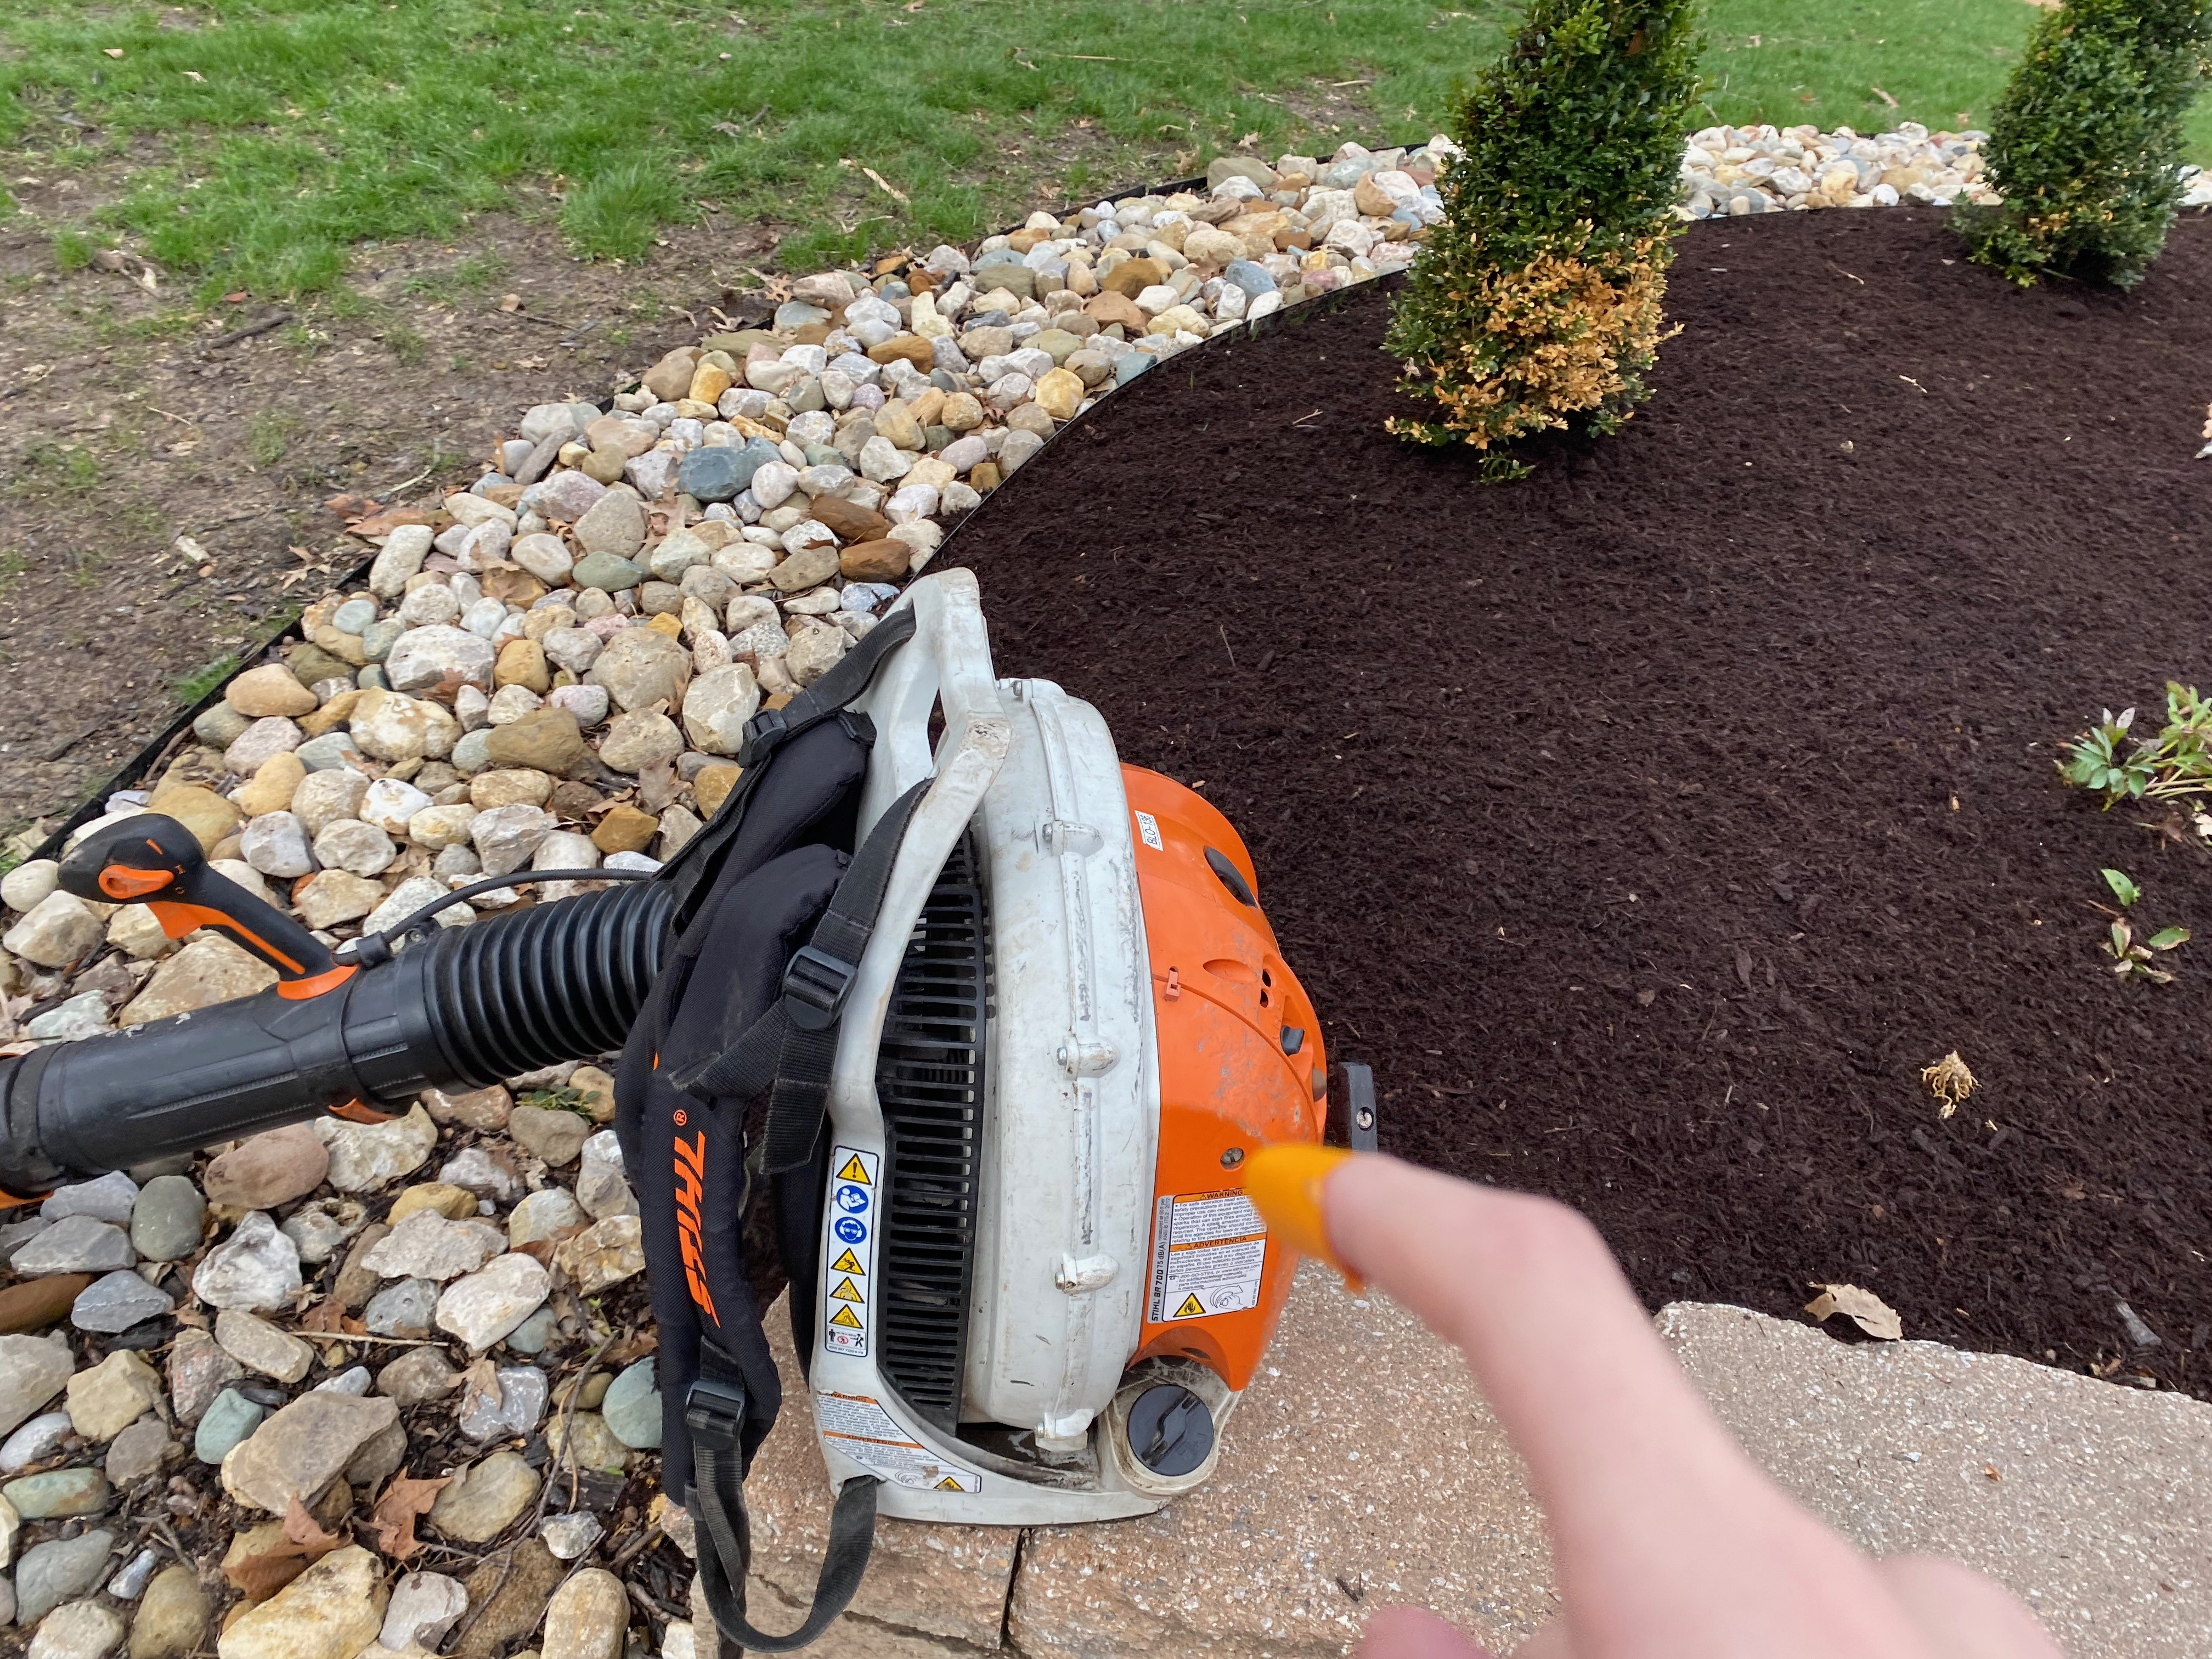fingertip: (1226, 1112, 1426, 1309)
